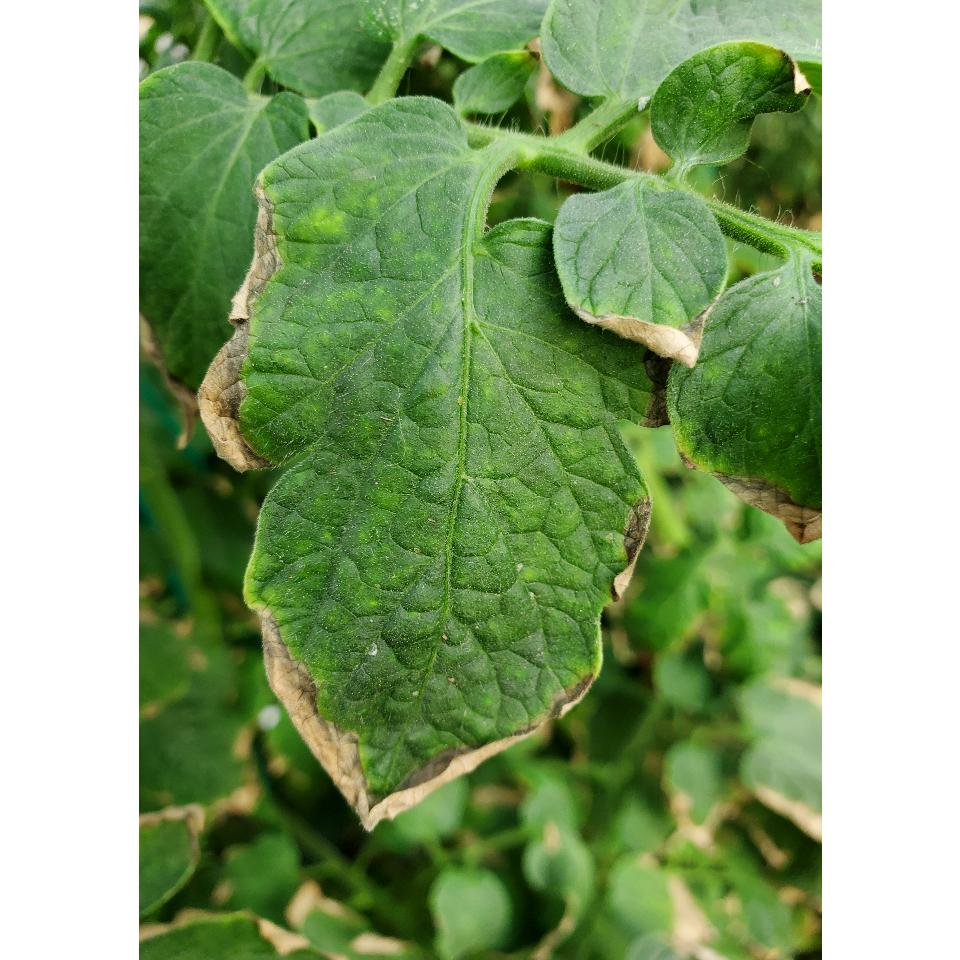tomato_bacterial_blight: (198, 124, 682, 840)
